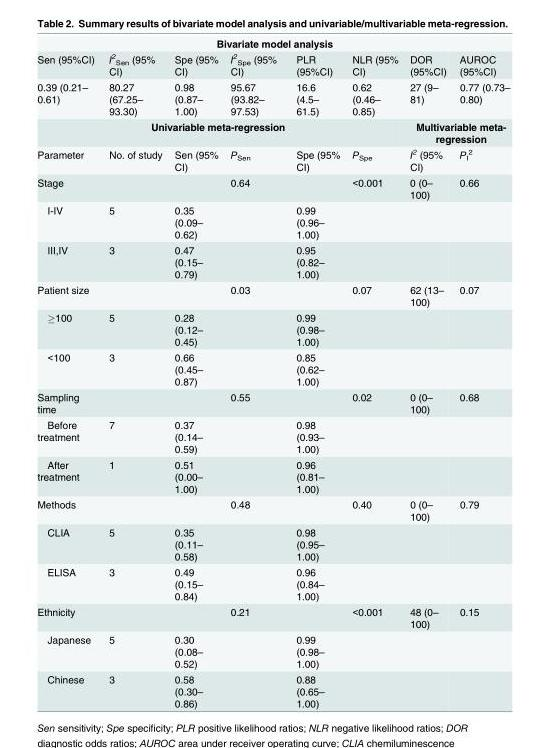table: (36, 37, 509, 708)
table column: (100, 37, 167, 708), (36, 37, 100, 708), (223, 37, 285, 708), (285, 37, 345, 708), (345, 37, 403, 708), (452, 37, 509, 708), (167, 37, 223, 708), (403, 37, 452, 708)
table projected row header: (36, 37, 509, 50)
table row: (36, 78, 509, 118), (36, 201, 509, 241), (36, 241, 509, 281), (36, 309, 509, 349), (36, 416, 509, 456), (36, 456, 509, 496), (36, 523, 509, 563), (36, 563, 509, 603), (36, 631, 509, 671), (36, 349, 509, 388), (36, 671, 509, 708), (36, 145, 509, 174), (36, 50, 509, 78), (36, 281, 509, 309), (36, 388, 509, 416), (36, 603, 509, 631), (36, 118, 509, 145), (36, 174, 509, 201), (36, 496, 509, 523), (36, 37, 509, 50)
table spanning cell: (36, 118, 403, 145), (403, 118, 509, 145)
